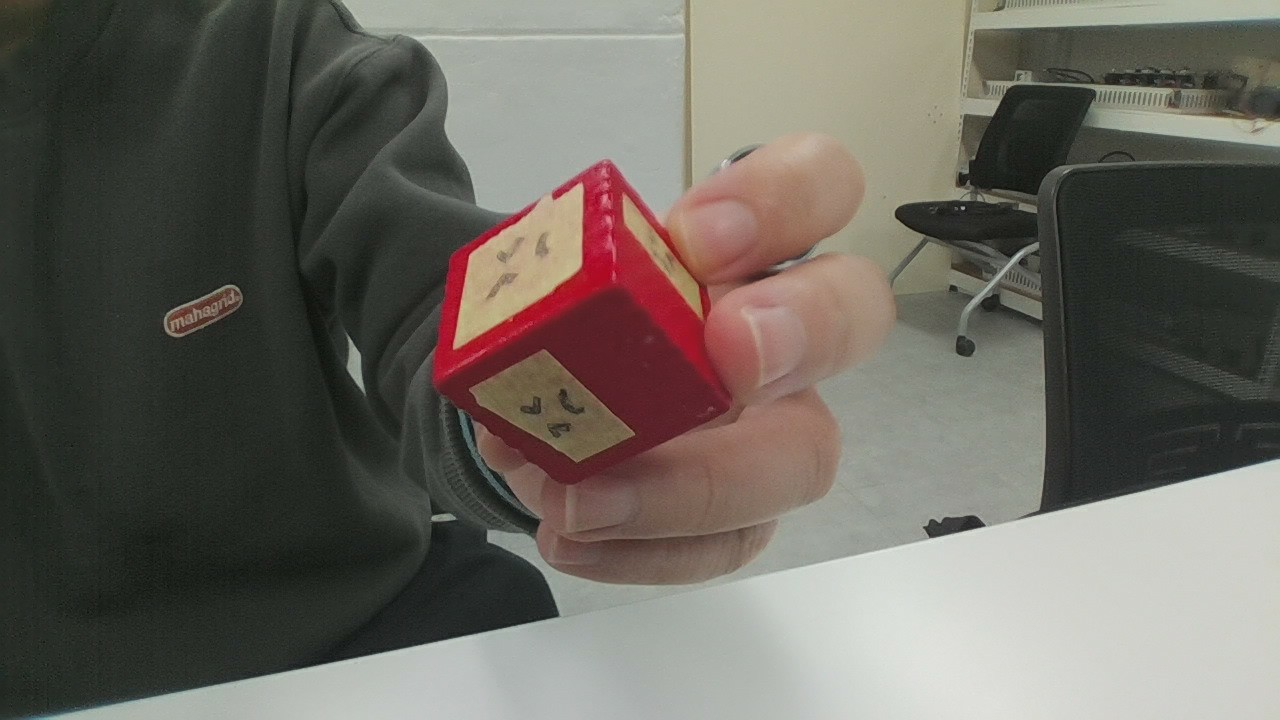Error: (361, 303, 653, 619)
